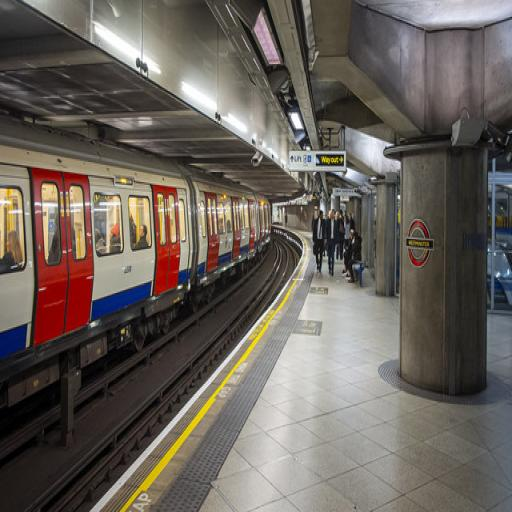platform_edge: (105, 316, 240, 512), (244, 268, 312, 354)
